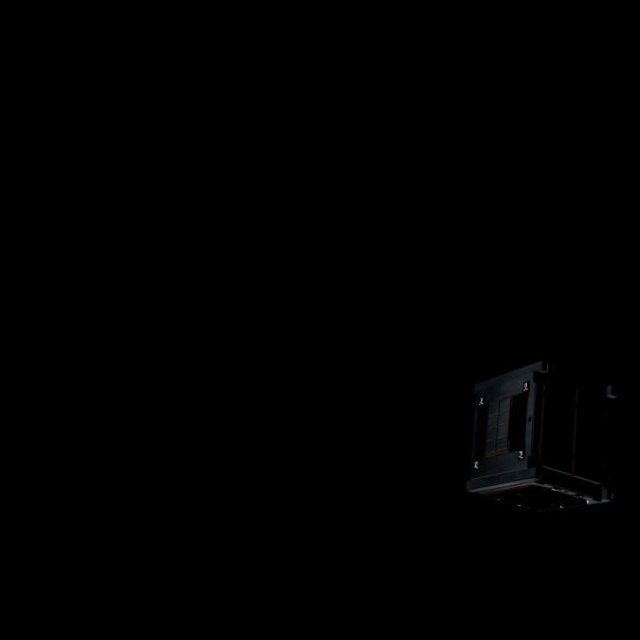satellite: (455, 340, 622, 529)
